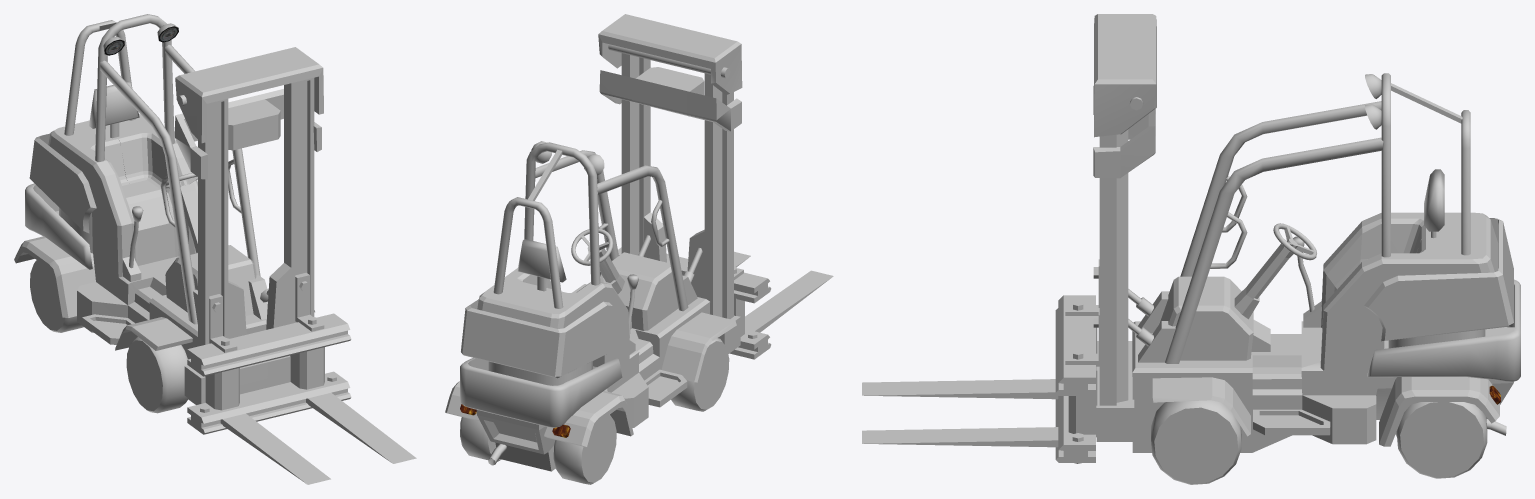
The model's file is ForkLoader Lowpoly.FBX.
The picture shows the model from 3 angles, left to right: view 1: azimuth 30°, elevation 25°; view 2: azimuth 150°, elevation 25°; view 3: azimuth 270°, elevation 25°; orthographic projection. The views are drawn at different scales.
Visible parts, largest first — view 1: ForkLoader_Lowpoly, ForkLoader_Fork, ForkLoader_Wheel_FL, ForkLoader_Wheel_RL; view 2: ForkLoader_Lowpoly, ForkLoader_Fork, ForkLoader_Wheel_RL, ForkLoader_Wheel_FL, ForkLoader_Wheel_RR, Steering; view 3: ForkLoader_Lowpoly, ForkLoader_Fork, ForkLoader_Wheel_FR, ForkLoader_Wheel_RR, Steering.
Boxes of the visible parts, x1,y1,x2,y2 form: ForkLoader_Lowpoly: (14,14,323,404); ForkLoader_Fork: (187,272,416,484); ForkLoader_Wheel_FL: (126,337,188,413); ForkLoader_Wheel_RL: (30,260,83,332); ForkLoader_Lowpoly: (445,14,742,471); ForkLoader_Fork: (618,247,833,359); ForkLoader_Wheel_RL: (553,414,616,484); ForkLoader_Wheel_FL: (671,338,729,411); ForkLoader_Wheel_RR: (460,417,501,461); Steering: (571,228,613,265); ForkLoader_Lowpoly: (1093,14,1520,452); ForkLoader_Fork: (862,259,1099,463); ForkLoader_Wheel_FR: (1151,400,1241,484); ForkLoader_Wheel_RR: (1396,402,1487,478); Steering: (1273,223,1316,260).
Size of the model in its own units: 2.14 by 4.43 by 6.63.
